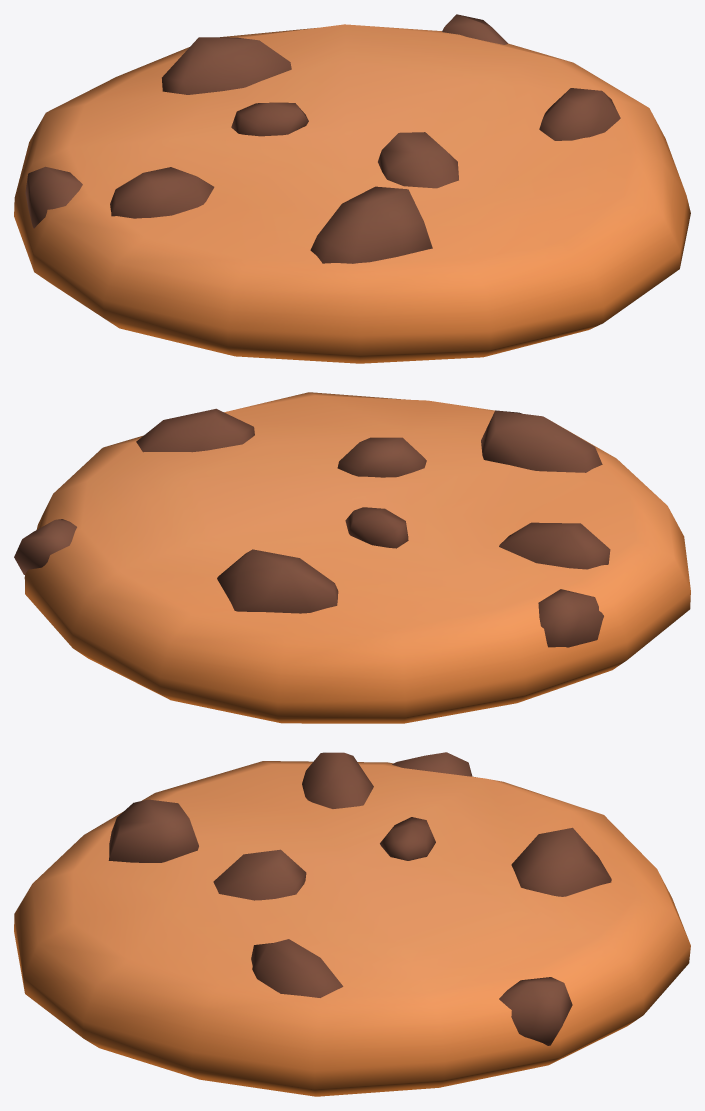
Rendered from Cookie_12.glb.
3 views of the same model, one above another, from view 1: azimuth 30°, elevation 25°; view 2: azimuth 150°, elevation 25°; view 3: azimuth 270°, elevation 25° (orthographic). The views are drawn at different scales.
Parts seen in each view (by area): view 1: Cookie_12; view 2: Cookie_12; view 3: Cookie_12.
Boxes of the visible parts, x1,y1,x2,y2 form: Cookie_12: (14,14,690,363); Cookie_12: (14,392,690,723); Cookie_12: (14,752,690,1096).
Bounding box in the file's own units: 3.6 × 0.7472 × 3.65.
1 material, 1 textured.
